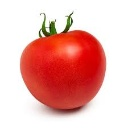tomato: (20, 31, 106, 110)
